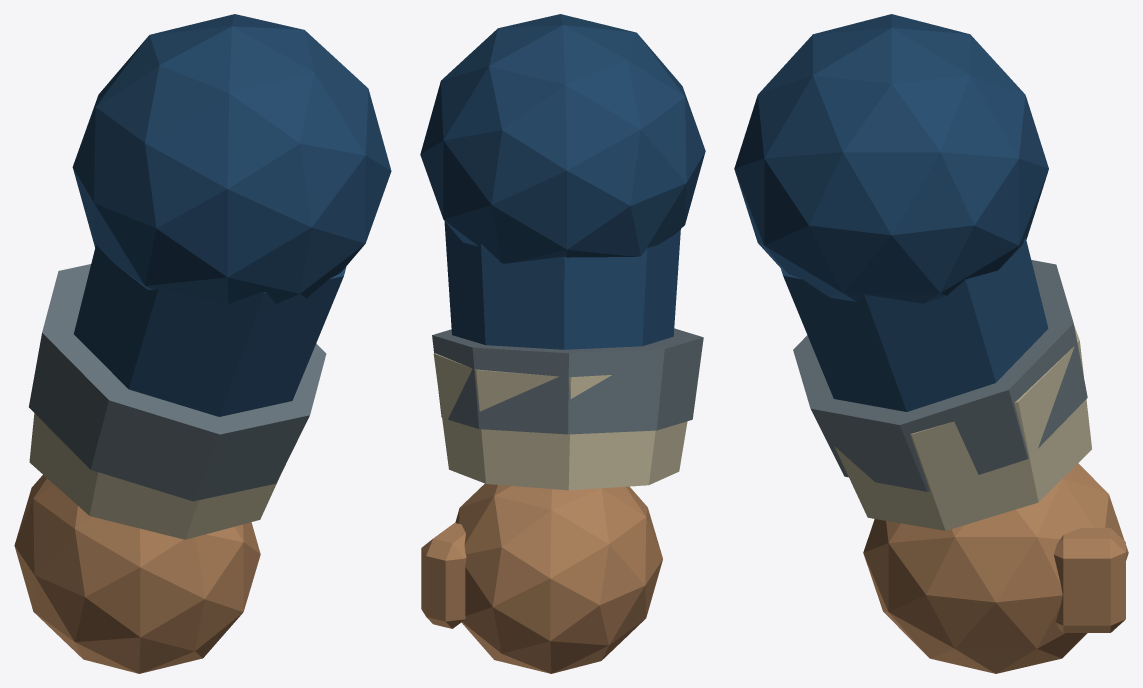
Rendered from ForearmLeft.glb.
3 renders of one model, left to right at view 1: azimuth 30°, elevation 25°; view 2: azimuth 150°, elevation 25°; view 3: azimuth 270°, elevation 25°, orthographic. The views are drawn at different scales.
Visible parts, largest first — view 1: Sculpture; view 2: Sculpture; view 3: Sculpture.
Part boxes in pixels (x1,y1,x2,y2): Sculpture: [14, 14, 391, 673]; Sculpture: [420, 14, 705, 673]; Sculpture: [734, 14, 1128, 673].
Size of the model in its own units: 0.1755 by 0.382 by 0.208.
